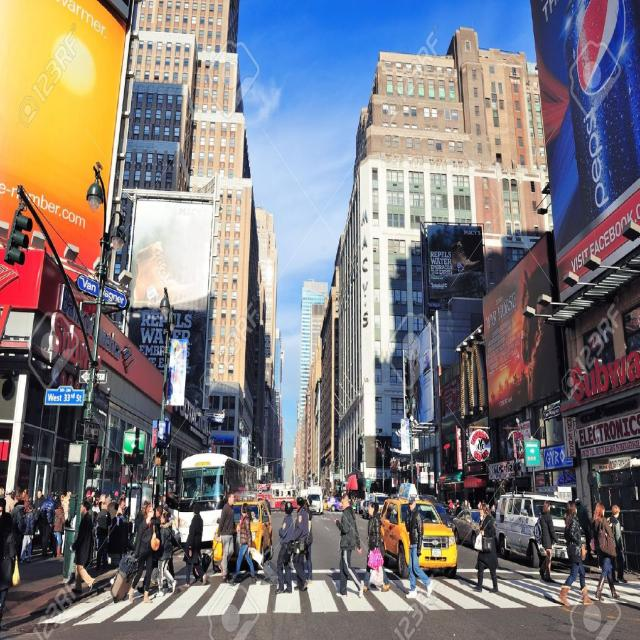body: (454, 568, 621, 606), (81, 566, 312, 592), (0, 578, 79, 631), (557, 499, 595, 606), (324, 562, 428, 596), (333, 491, 364, 598), (128, 503, 160, 605), (588, 501, 620, 602), (403, 495, 433, 599), (69, 498, 98, 596), (225, 500, 256, 587), (471, 502, 500, 594), (362, 501, 390, 593), (181, 501, 210, 588), (84, 487, 128, 541), (0, 511, 20, 620), (155, 511, 179, 598), (215, 489, 238, 578), (536, 499, 560, 584), (274, 500, 295, 596), (291, 496, 309, 592), (0, 495, 14, 618), (607, 504, 628, 585), (164, 476, 223, 504), (10, 491, 28, 579), (128, 499, 152, 552), (574, 497, 592, 567), (39, 488, 56, 559), (162, 502, 176, 588), (19, 500, 35, 566), (32, 488, 48, 550), (302, 496, 313, 584), (51, 502, 67, 558), (59, 489, 72, 557), (148, 505, 164, 552), (0, 487, 30, 512), (445, 496, 472, 521), (477, 497, 498, 518), (416, 507, 435, 524), (351, 494, 364, 514), (552, 504, 568, 519), (248, 508, 258, 530), (264, 494, 271, 516)
